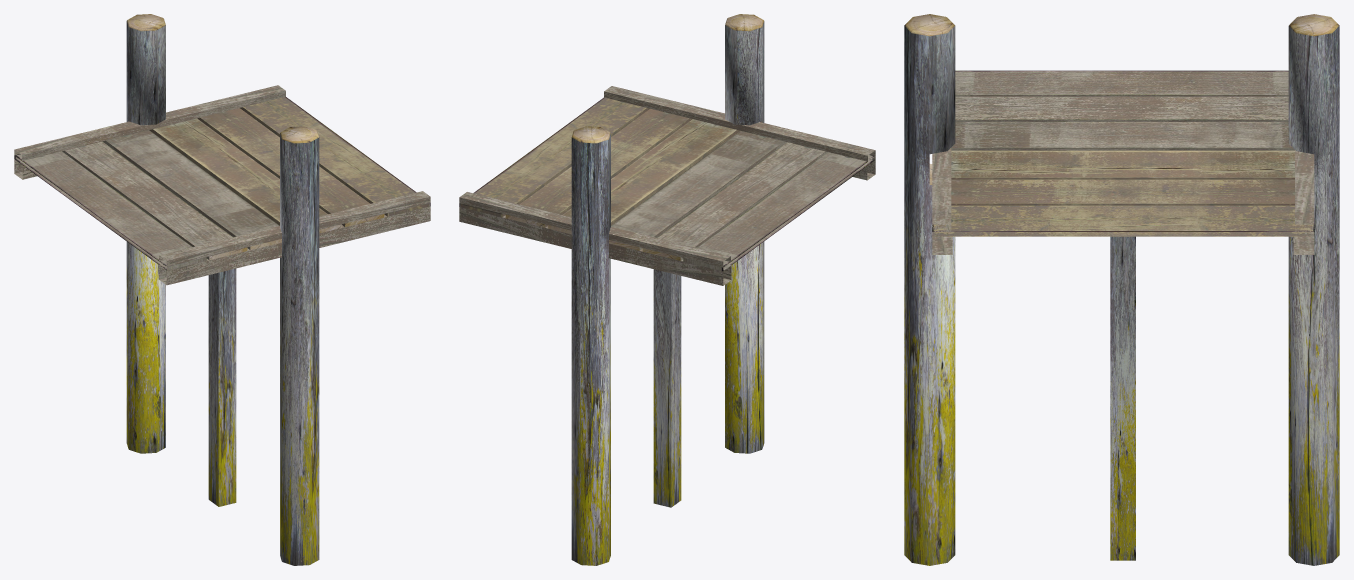
Rendered from dock-middle.dae.
3 views of the same model, side by side, from view 1: azimuth 30°, elevation 25°; view 2: azimuth 150°, elevation 25°; view 3: azimuth 270°, elevation 25° (orthographic). The views are drawn at different scales.
Visible parts, largest first — view 1: dock_017; view 2: dock_017; view 3: dock_017.
Boxes of the visible parts, <box> form: dock_017: <box>14,14,430,565</box>; dock_017: <box>459,14,875,565</box>; dock_017: <box>904,14,1339,565</box>.
Size of the model in its own units: 15 by 17.09 by 23.02.
1 material, 1 textured.
